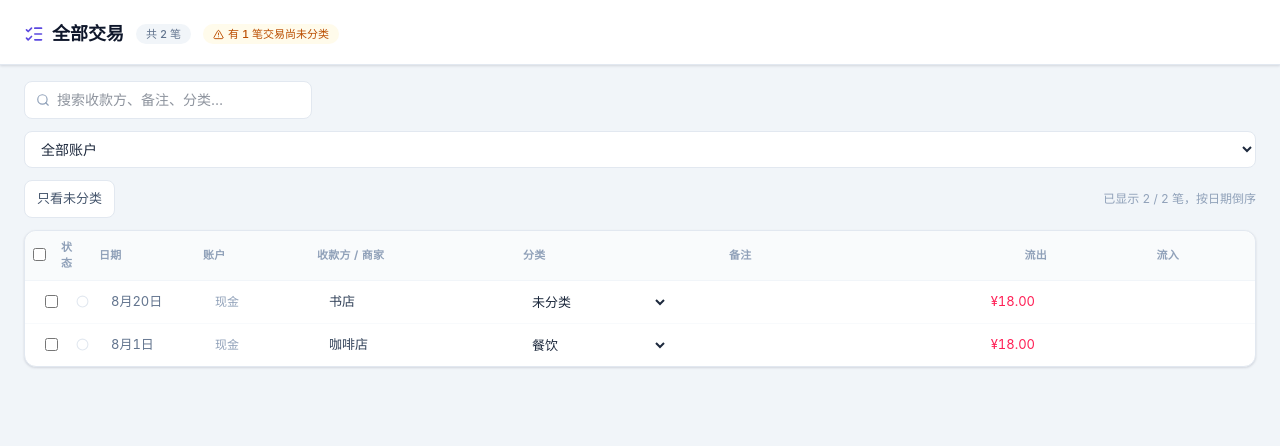
Scenario: TransactionsPage › 勾选多笔后确认即批量删除
Click the checkbox next to "8月20日".
click(52, 301)  # box [45,294,58,308]
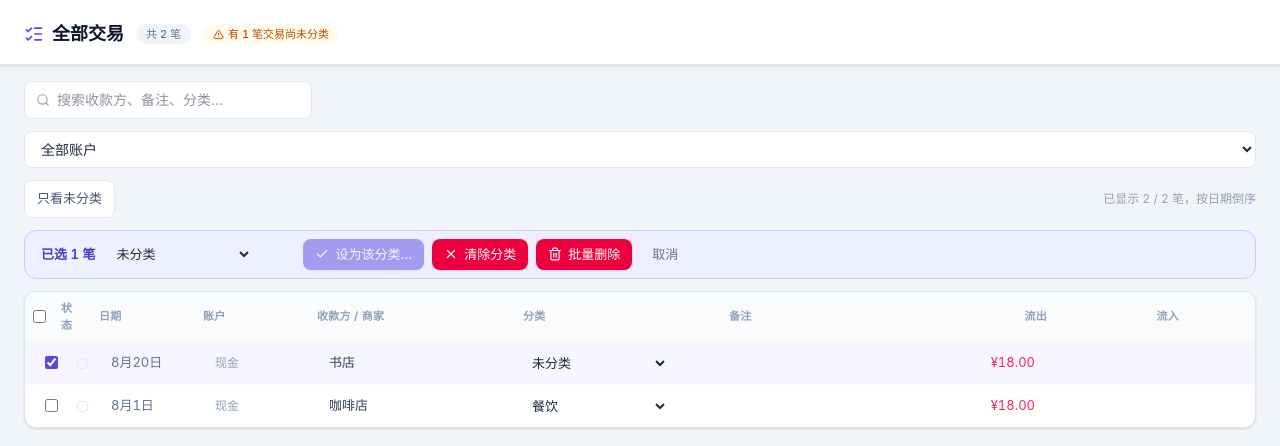
Click the checkbox next to "8月1日".
click(52, 406)  # box [45,399,58,412]
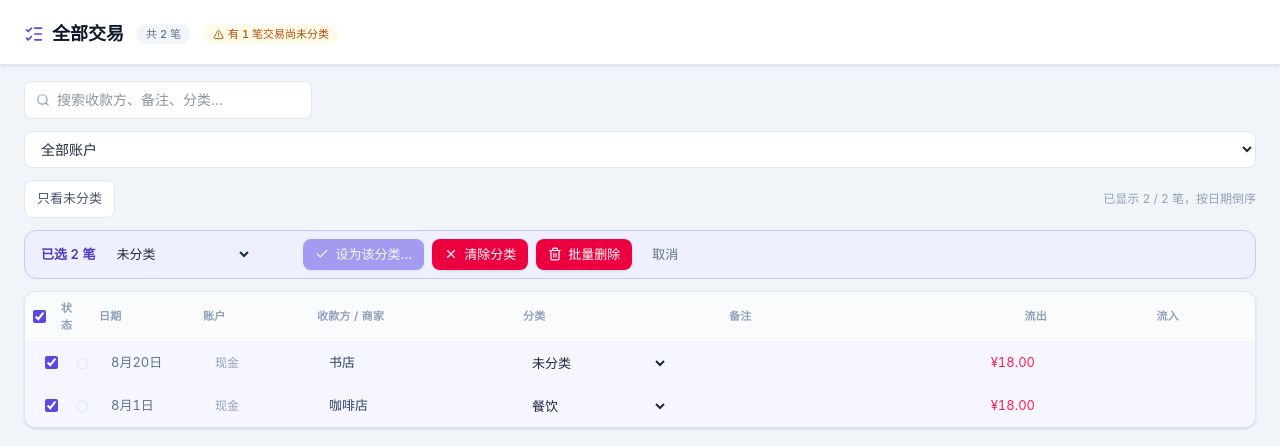
Click the button "批量删除".
click(584, 254)  # box [536,238,632,270]
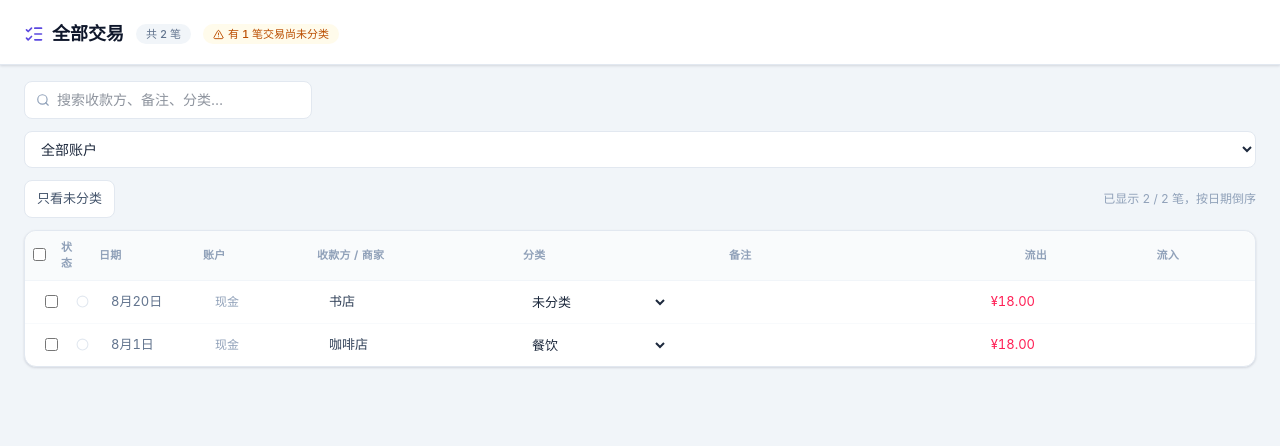
Check: the text "已选 2 笔" is gone
